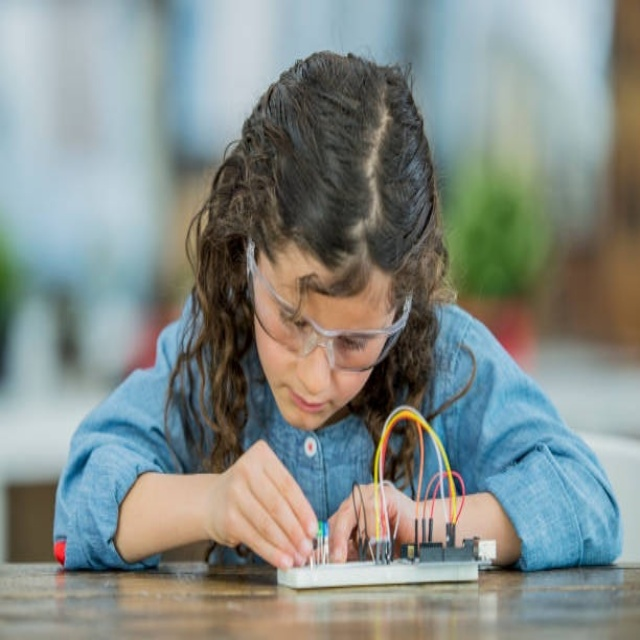Gafas: (248, 240, 413, 372)
Sin_guantes: (210, 437, 326, 569), (325, 479, 417, 563)
Sin_mascara: (278, 378, 337, 430)
